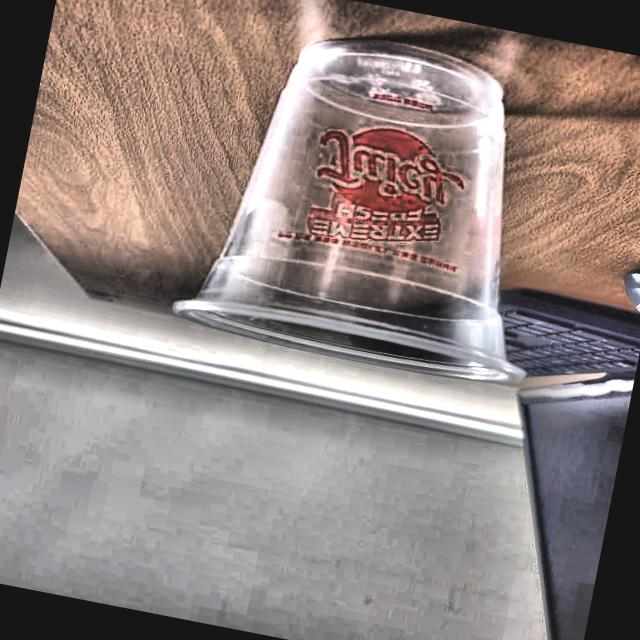plastic cup: (164, 11, 582, 396)
